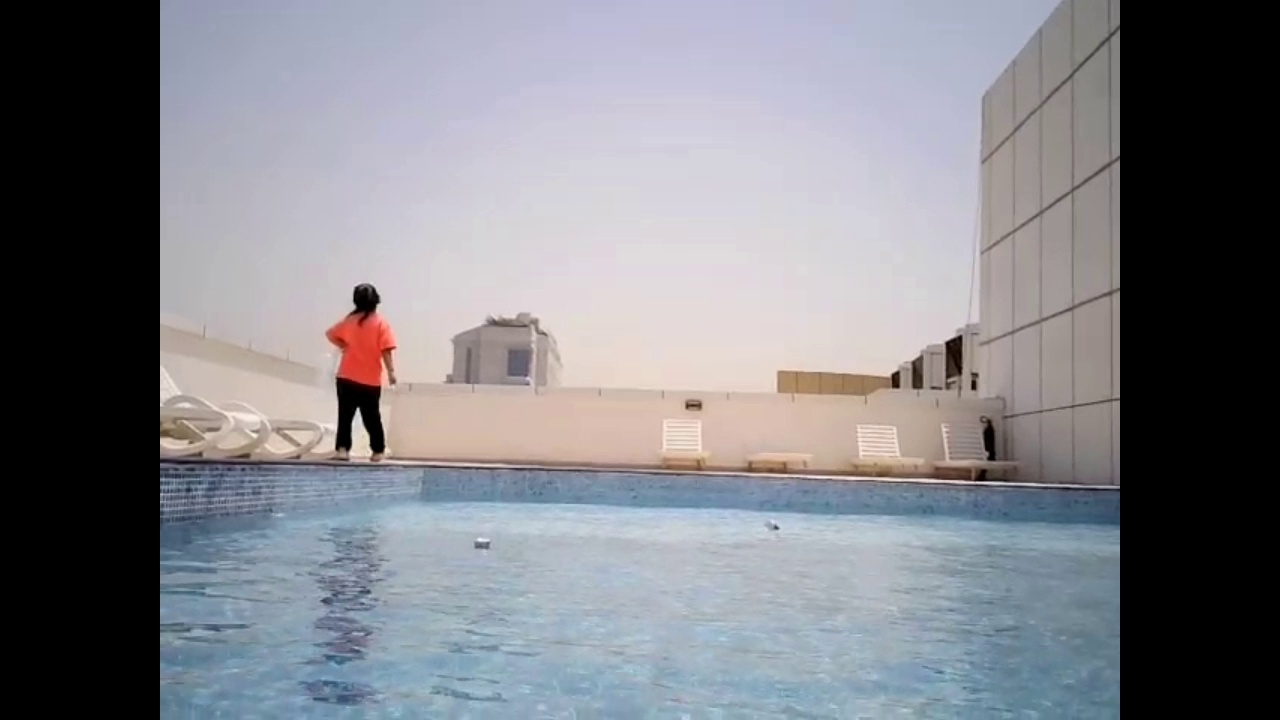debris: (467, 533, 494, 555), (760, 514, 782, 538)
